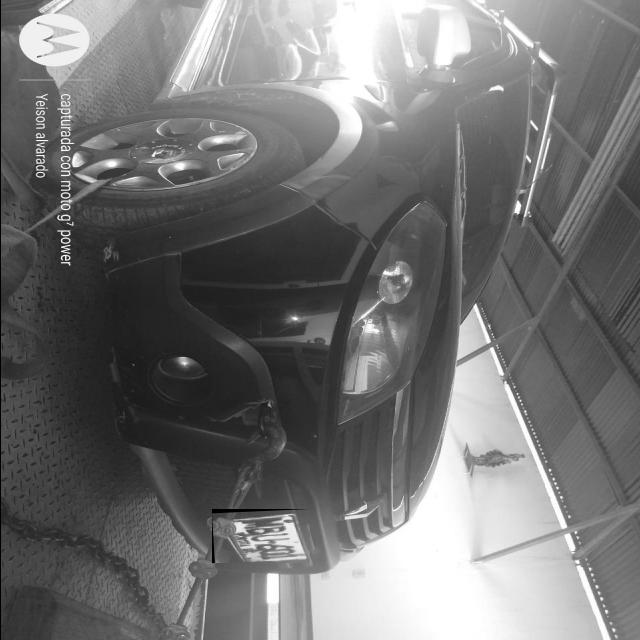plate: (212, 510, 309, 563)
